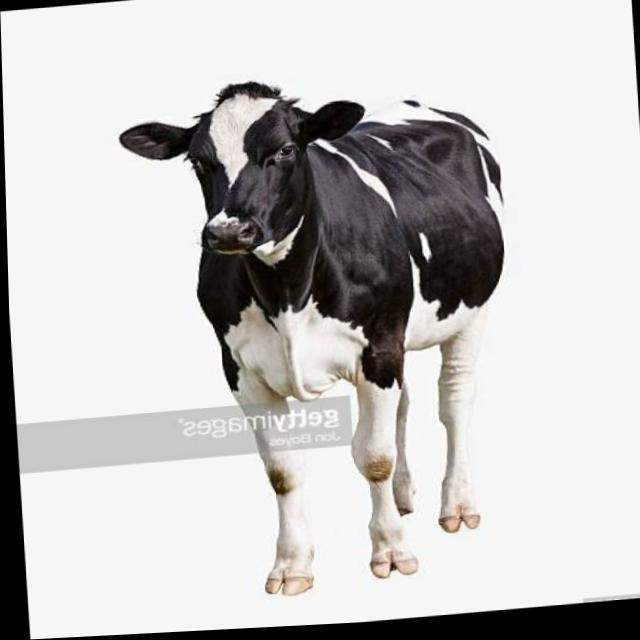cowFace: (110, 69, 376, 268)
